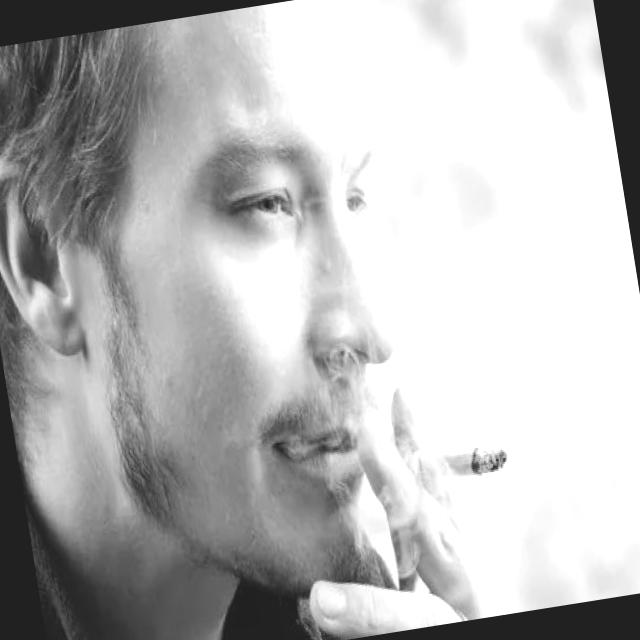smoke: (409, 432, 516, 492)
